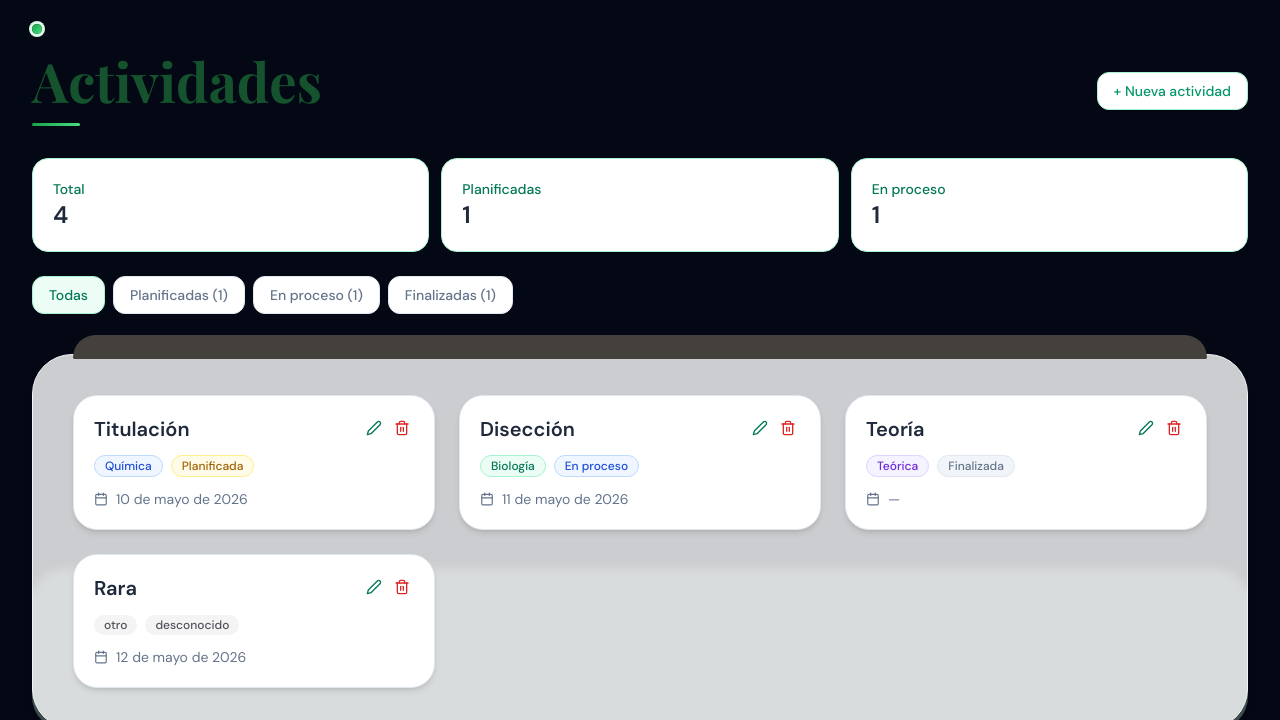
Test: Actividades Page › eliminar pide confirmación y saca la actividad de la lista
The image size is (1280, 720).
Click the button titled "Eliminar actividad" in the row of "Titulación".
click(402, 428)  # box [390,416,414,440]
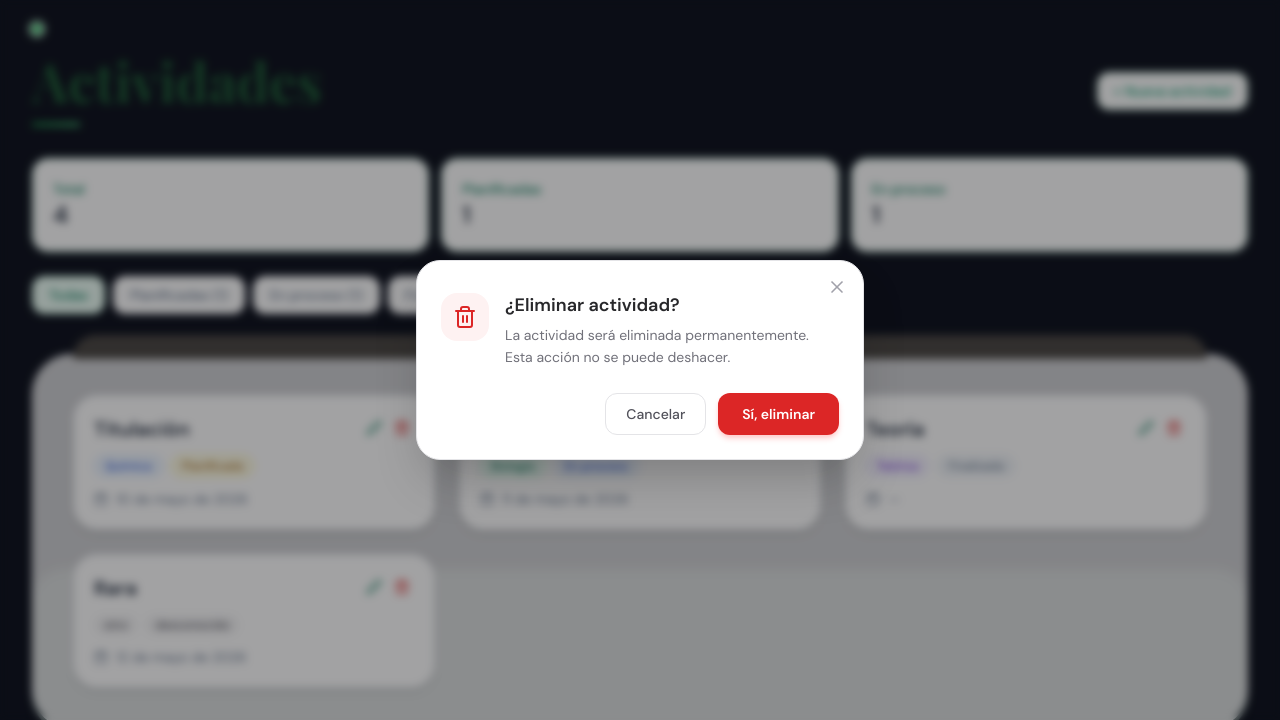
Expected: the heading "¿Eliminar actividad?" is shown, [505,293,680,317]
Click the button "Sí, eliminar".
click(779, 414)  # box [718,393,839,435]
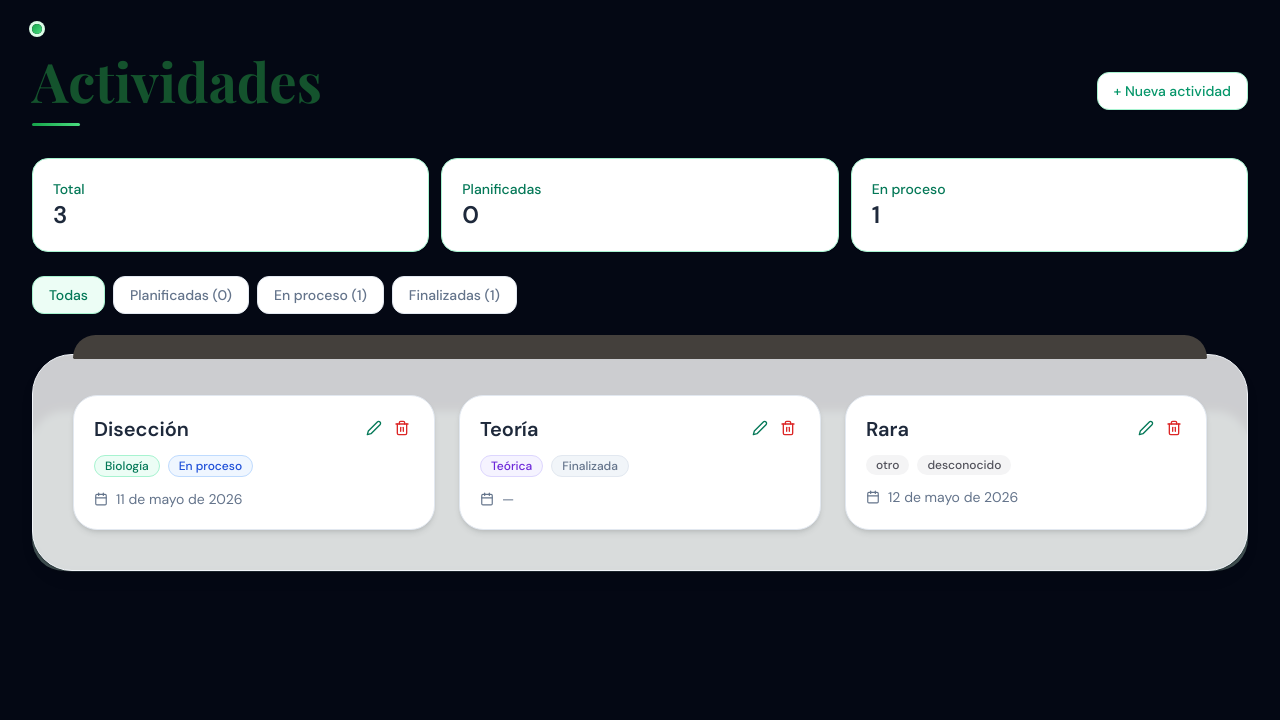
Expected: the heading "Titulación" is gone
